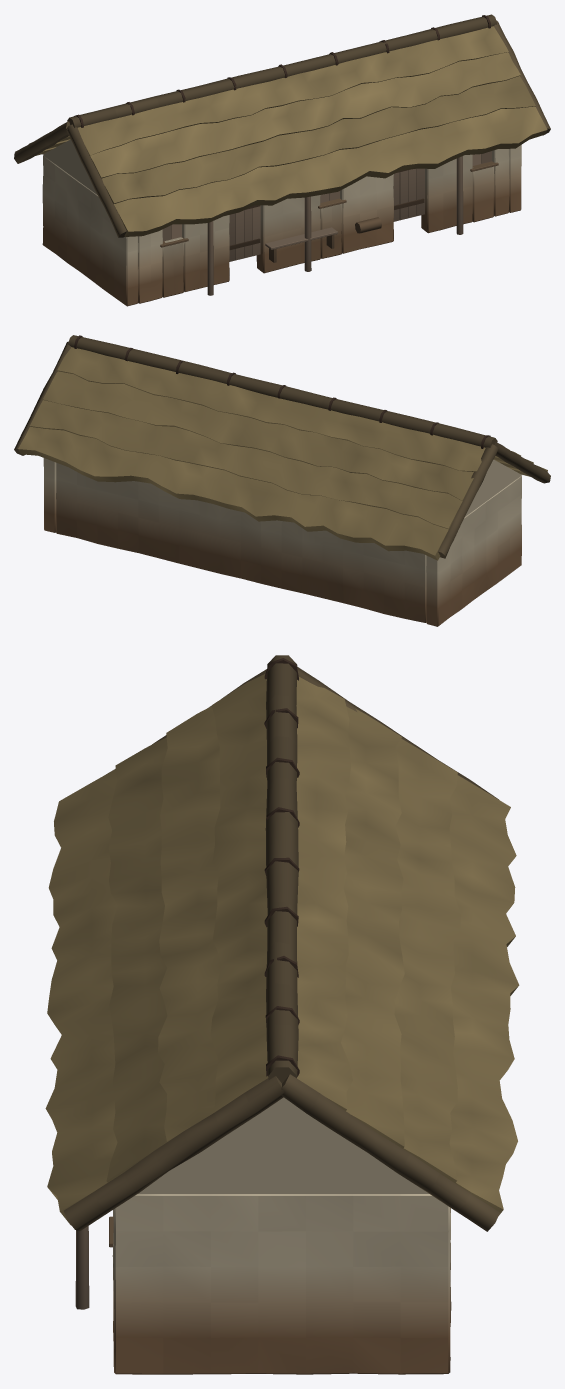
Rendered from fortin_rancho.glb.
3 views of the same model, one above another, from view 1: azimuth 30°, elevation 25°; view 2: azimuth 150°, elevation 25°; view 3: azimuth 270°, elevation 25° (orthographic). The views are drawn at different scales.
Parts seen in each view (by area): view 1: RanchoFortin; view 2: RanchoFortin; view 3: RanchoFortin.
Part boxes in pixels (<box>): RanchoFortin: <box>14,14,550,306</box>; RanchoFortin: <box>14,335,550,626</box>; RanchoFortin: <box>45,655,519,1374</box>.
Size of what is drawn, in the model's own units: 14.22 by 5.13 by 6.76.
